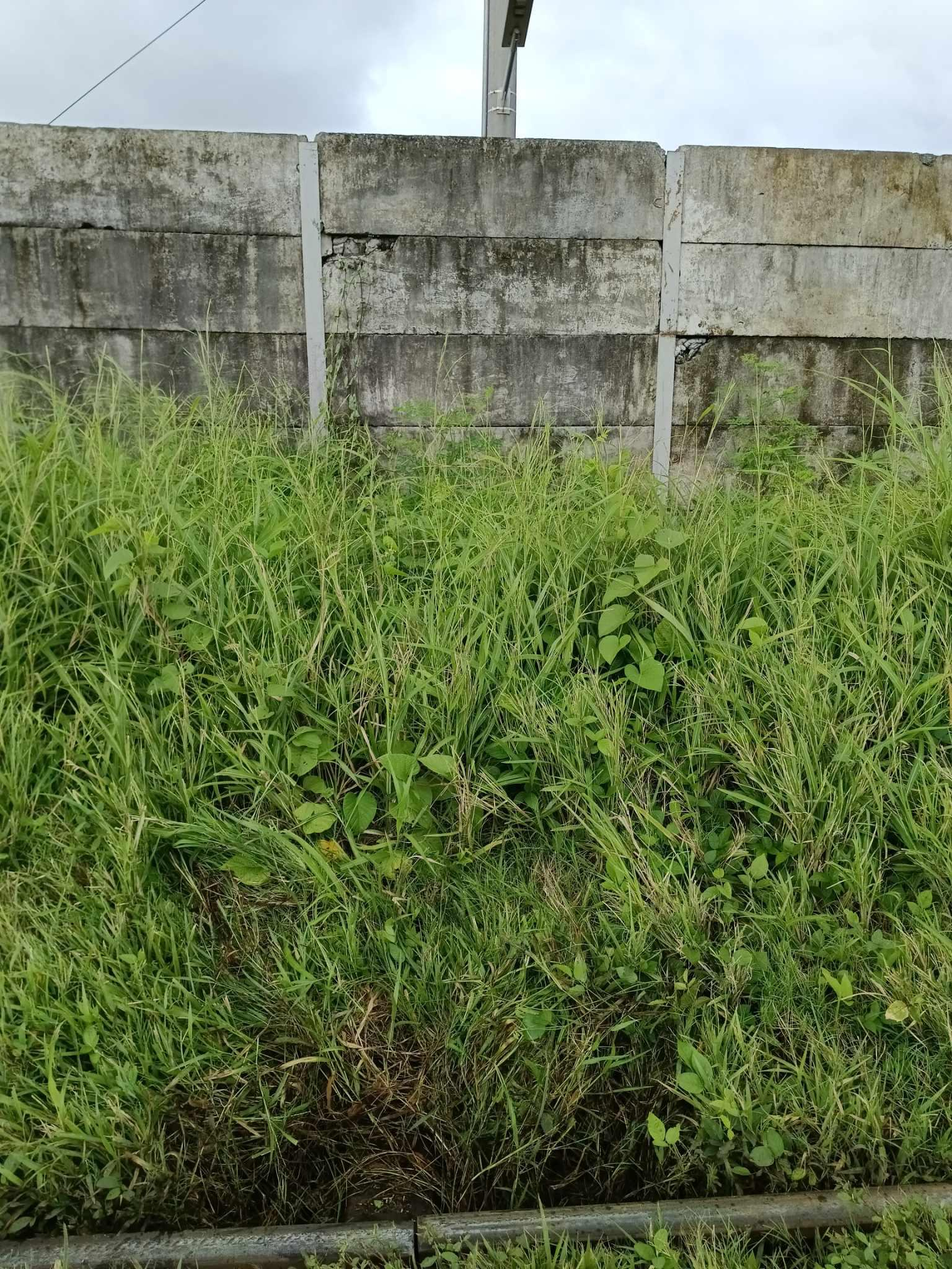railway-gap: (306, 1199, 515, 1269)
